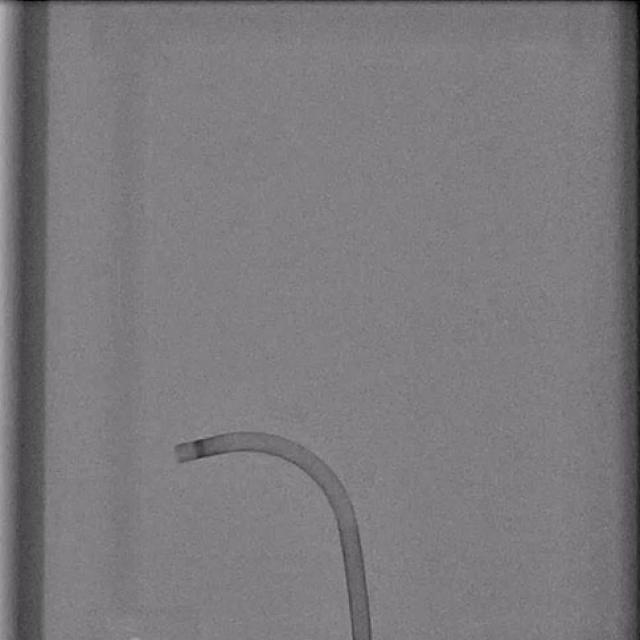bend: (332, 510, 360, 528)
entry: (353, 632, 372, 640)
marker: (193, 440, 207, 459)
tip: (173, 443, 186, 462)
